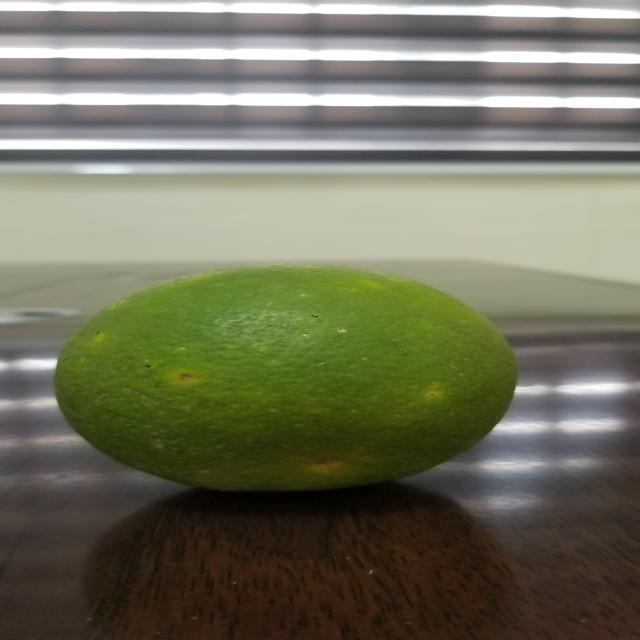Ripe orange: (56, 246, 542, 494)
